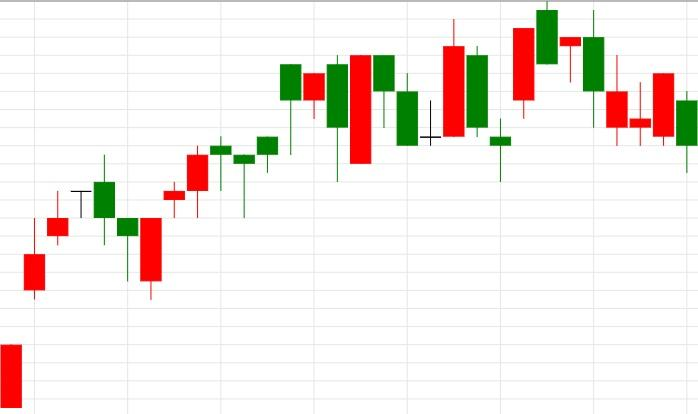bearish_engulfing_fall: (489, 0, 606, 182), (232, 55, 349, 218)
bullish_engulfing_rise: (70, 153, 163, 300)
hammer_rise: (70, 153, 139, 281)
